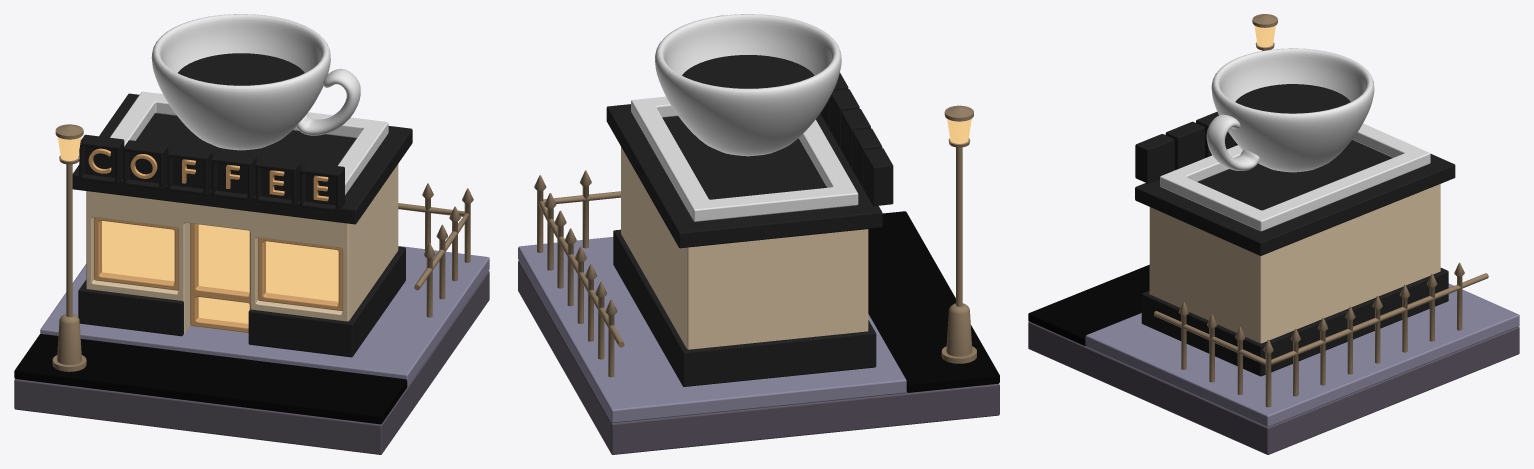
The model's file is coffee-shop-final.glb.
The picture shows the model from 3 angles, left to right: view 1: azimuth 30°, elevation 25°; view 2: azimuth 150°, elevation 25°; view 3: azimuth 270°, elevation 25°; orthographic projection. The views are drawn at different scales.
Parts seen in each view (by area): view 1: Plane.004, Plane.002, Circle.001, Plane, Plane.001, Plane.005, Plane.008, Plane.003, Plane.006, Circle, Plane.016, Circle.003 (+8 smaller); view 2: Plane.004, Plane.001, Circle.001, Plane.005, Plane, Plane.002, Plane.008, Plane.003, Plane.016, Circle, Circle.003, Plane.009 (+3 smaller); view 3: Plane.004, Plane.001, Plane, Circle.001, Plane.005, Plane.003, Plane.008, Plane.016, Plane.002, Circle.003, Plane.014, Circle.002 (+2 smaller).
Part boxes in pixels (box(x1,y1,x2,y2)): Plane.004: box(86, 164, 398, 333); Plane.002: box(14, 334, 407, 424); Circle.001: box(151, 14, 330, 150); Plane: box(14, 271, 489, 454); Plane.001: box(40, 246, 489, 386); Plane.005: box(72, 93, 412, 224); Plane.008: box(78, 246, 405, 357); Plane.003: box(110, 91, 388, 195); Plane.006: box(94, 217, 342, 310); Circle: box(52, 124, 86, 371); Plane.016: box(398, 183, 473, 317); Circle.003: box(178, 53, 304, 85); Plane.004: box(621, 147, 868, 349); Plane.001: box(518, 237, 906, 422); Circle.001: box(655, 14, 841, 156); Plane.005: box(606, 104, 882, 248); Plane: box(518, 260, 999, 454); Plane.002: box(868, 211, 999, 392); Plane.008: box(613, 229, 876, 386); Plane.003: box(631, 96, 858, 221); Plane.016: box(534, 170, 624, 377); Circle: box(941, 105, 976, 363); Circle.003: box(682, 55, 814, 88); Plane.009: box(863, 148, 893, 205); Plane.004: box(1149, 184, 1440, 343); Plane.001: box(1085, 283, 1519, 426); Plane: box(1028, 321, 1519, 454); Circle.001: box(1211, 48, 1374, 172); Plane.005: box(1135, 140, 1455, 255); Plane.003: box(1160, 123, 1430, 231); Plane.008: box(1141, 268, 1448, 376); Plane.016: box(1154, 262, 1488, 407); Plane.002: box(1028, 264, 1149, 345); Circle.003: box(1235, 84, 1350, 113); Plane.014: box(1135, 134, 1174, 183); Circle.002: box(1206, 114, 1259, 170).
Size of the model in its own units: 11.28 by 6.85 by 11.28.
